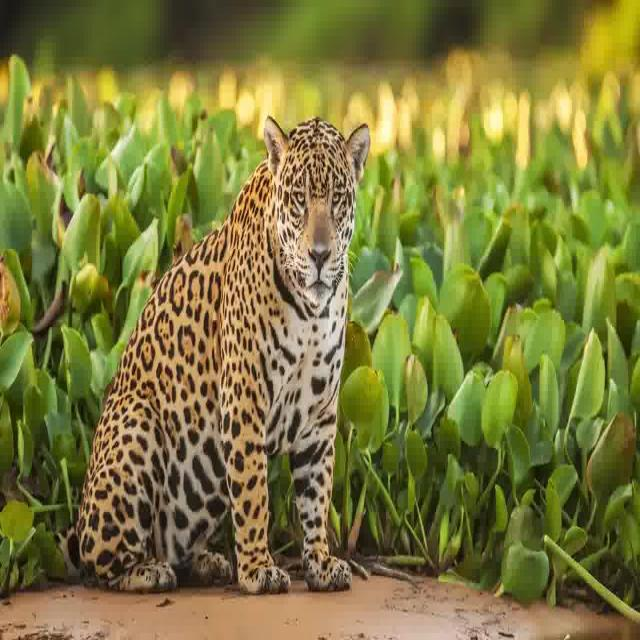Jaguar: (53, 97, 400, 601)
